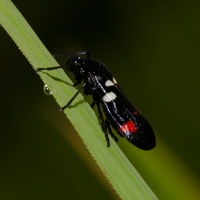insect: (36, 52, 155, 149)
